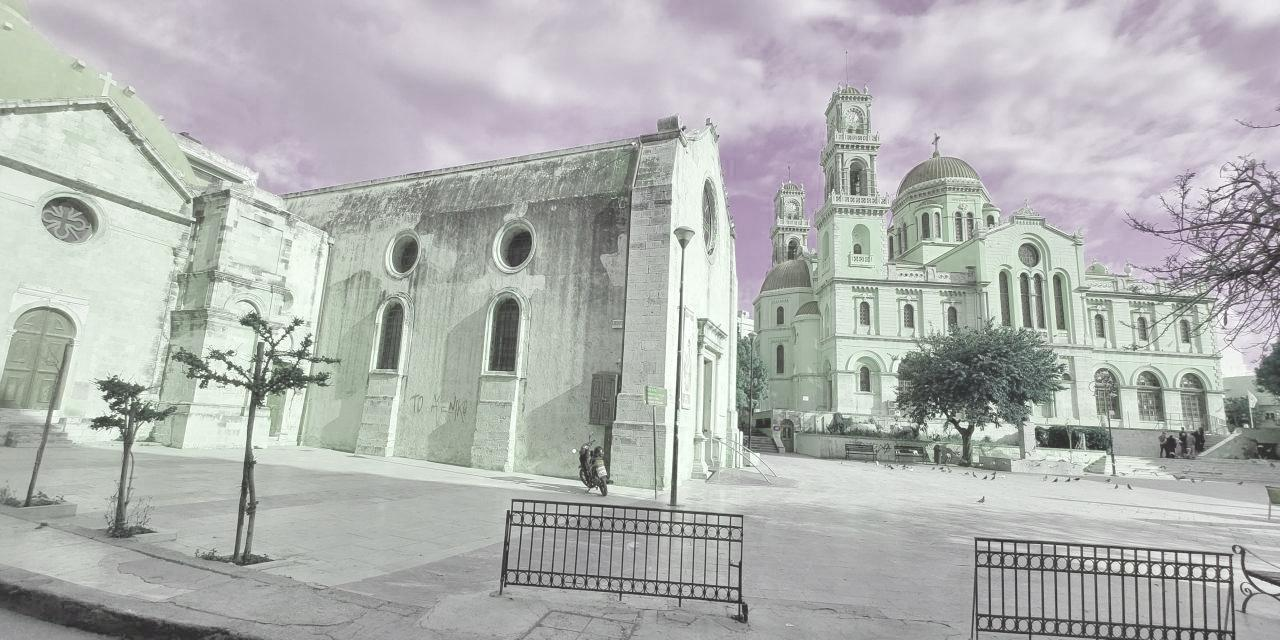Agia Aikaterini: (1, 7, 749, 483)
